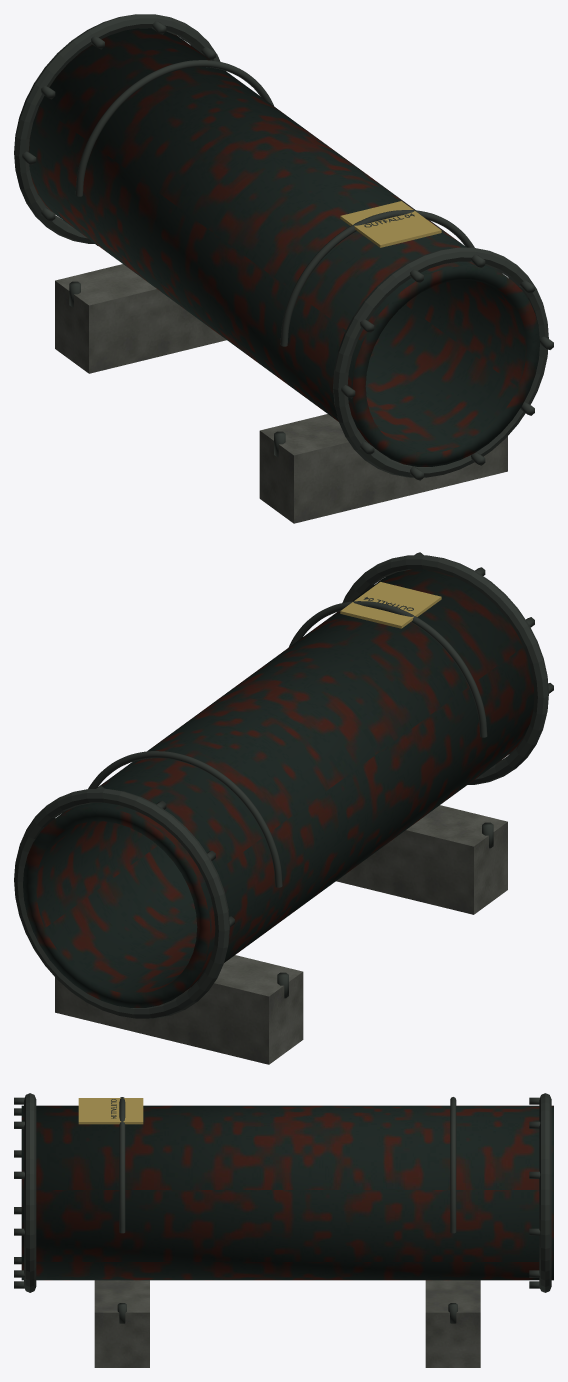
File: drainage-pipe.glb
The picture shows the model from 3 angles, top to bottom: view 1: azimuth 30°, elevation 25°; view 2: azimuth 150°, elevation 25°; view 3: azimuth 270°, elevation 25°; orthographic projection. The views are drawn at different scales.
Parts seen in each view (by area): view 1: Hollow cast iron drain pipe, Concrete pipe sleeper, Concrete pipe sleeper.001, Pipe flange rim, Pipe flange rim.001, Pipe flow identification, Pipe support strap.001, Pipe support strap; view 2: Hollow cast iron drain pipe, Concrete pipe sleeper.001, Concrete pipe sleeper, Pipe flange rim.001, Pipe flange rim, Pipe flow identification, Pipe support strap.001, Pipe support strap; view 3: Hollow cast iron drain pipe, Concrete pipe sleeper, Concrete pipe sleeper.001, Pipe flange rim, Pipe flange rim.001, Pipe flow identification, Pipe support strap.001, Pipe support strap.
Boxes of the visible parts, left/top/right/bottom form: Hollow cast iron drain pipe: left=28, top=28, right=539, bottom=466; Concrete pipe sleeper: left=259, top=414, right=507, bottom=523; Concrete pipe sleeper.001: left=55, top=264, right=226, bottom=373; Pipe flange rim: left=333, top=247, right=548, bottom=477; Pipe flange rim.001: left=14, top=14, right=220, bottom=243; Pipe flow identification: left=340, top=201, right=441, bottom=247; Pipe support strap.001: left=75, top=60, right=273, bottom=196; Pipe support strap: left=280, top=210, right=474, bottom=346; Hollow cast iron drain pipe: left=23, top=569, right=534, bottom=1007; Concrete pipe sleeper.001: left=55, top=955, right=303, bottom=1064; Concrete pipe sleeper: left=336, top=805, right=507, bottom=914; Pipe flange rim.001: left=14, top=788, right=229, bottom=1018; Pipe flange rim: left=342, top=555, right=548, bottom=784; Pipe flow identification: left=340, top=582, right=441, bottom=628; Pipe support strap.001: left=88, top=751, right=282, bottom=887; Pipe support strap: left=288, top=601, right=487, bottom=737; Hollow cast iron drain pipe: left=21, top=1105, right=553, bottom=1280; Concrete pipe sleeper: left=94, top=1280, right=149, bottom=1367; Concrete pipe sleeper.001: left=425, top=1280, right=480, bottom=1367; Pipe flange rim: left=24, top=1093, right=36, bottom=1292; Pipe flange rim.001: left=539, top=1093, right=551, bottom=1292; Pipe flow identification: left=78, top=1098, right=143, bottom=1124; Pipe support strap.001: left=450, top=1097, right=456, bottom=1233; Pipe support strap: left=119, top=1097, right=125, bottom=1233.
Size of the model in its own units: 1.06 by 1.3 by 2.84.
4 materials, 2 textured.
